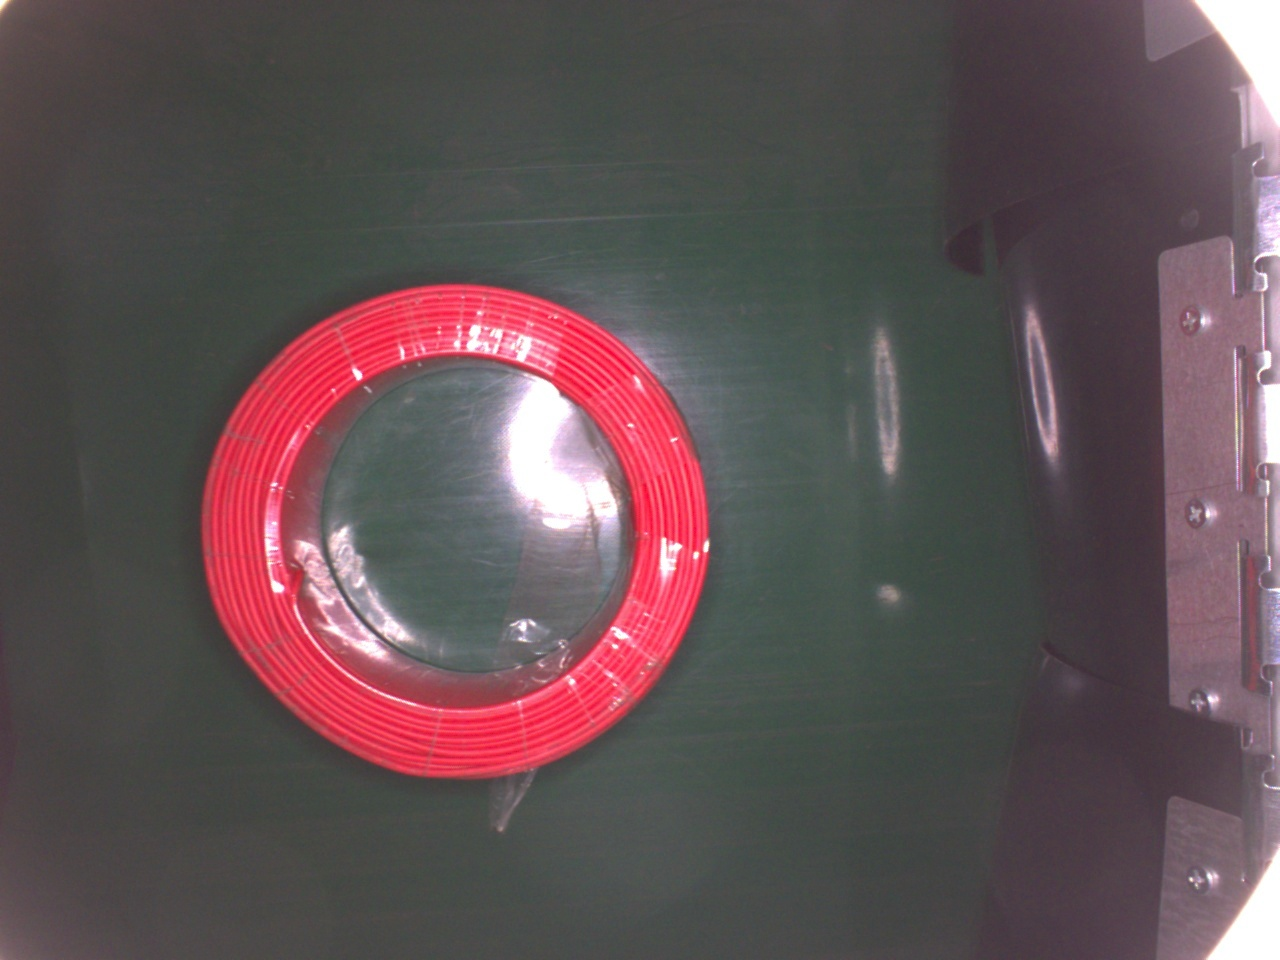red: (195, 280, 718, 782)
